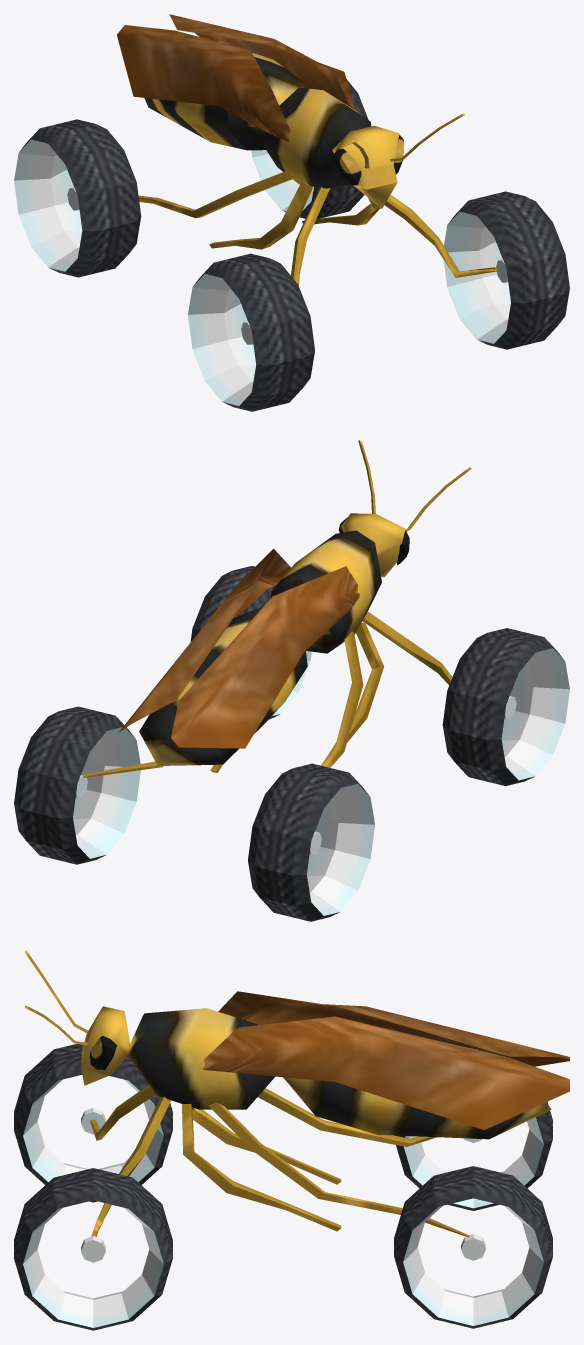
File: hornet.glb
3 renders of one model, top to bottom at view 1: azimuth 30°, elevation 25°; view 2: azimuth 150°, elevation 25°; view 3: azimuth 270°, elevation 25°, orthographic. The views are drawn at different scales.
Visible parts, largest first — view 1: wheel8 (×4), wings4, ZtoY, legs4, eyes32; view 2: wheel8 (×4), wings4, ZtoY, legs4, antenna32; view 3: wheel8 (×4), wings4, ZtoY, legs4, eyes32, antenna32.
Boxes of the visible parts, bbox=[...] form: wheel8 (×4): bbox=[14, 79, 569, 411]; wings4: bbox=[117, 14, 354, 141]; ZtoY: bbox=[144, 41, 399, 208]; legs4: bbox=[138, 170, 497, 285]; eyes32: bbox=[333, 135, 404, 185]; wheel8 (×4): bbox=[14, 566, 569, 921]; wings4: bbox=[119, 548, 359, 748]; ZtoY: bbox=[139, 513, 405, 765]; legs4: bbox=[81, 611, 452, 777]; antenna32: bbox=[358, 440, 471, 531]; wheel8 (×4): bbox=[14, 1044, 552, 1330]; wings4: bbox=[202, 991, 569, 1129]; ZtoY: bbox=[81, 1006, 551, 1139]; legs4: bbox=[90, 1085, 469, 1237]; eyes32: bbox=[90, 1035, 116, 1070]; antenna32: bbox=[25, 950, 88, 1044].
Bounding box in the file's own units: 4.64 × 3.85 × 6.9.
Materials: 6 (6 with a texture image).
